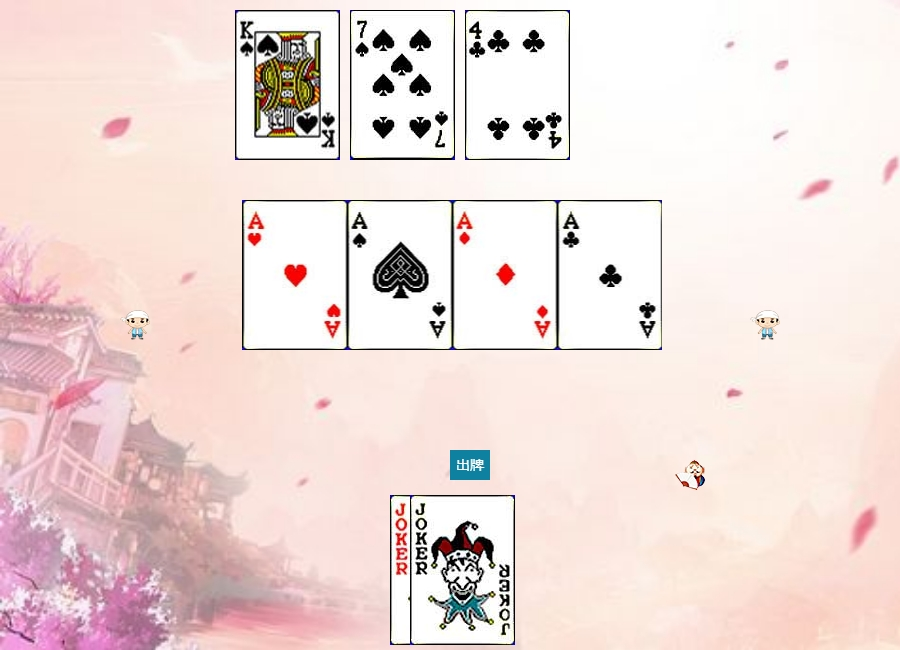13~4: (235, 10, 340, 160)
14~1: (453, 200, 558, 350)
14~2: (558, 200, 663, 350)
14~3: (243, 200, 348, 350)
14~4: (348, 200, 453, 350)
17~3: (410, 495, 515, 645)
18~4: (390, 495, 495, 645)
4~2: (465, 10, 570, 160)
7~4: (350, 10, 455, 160)
